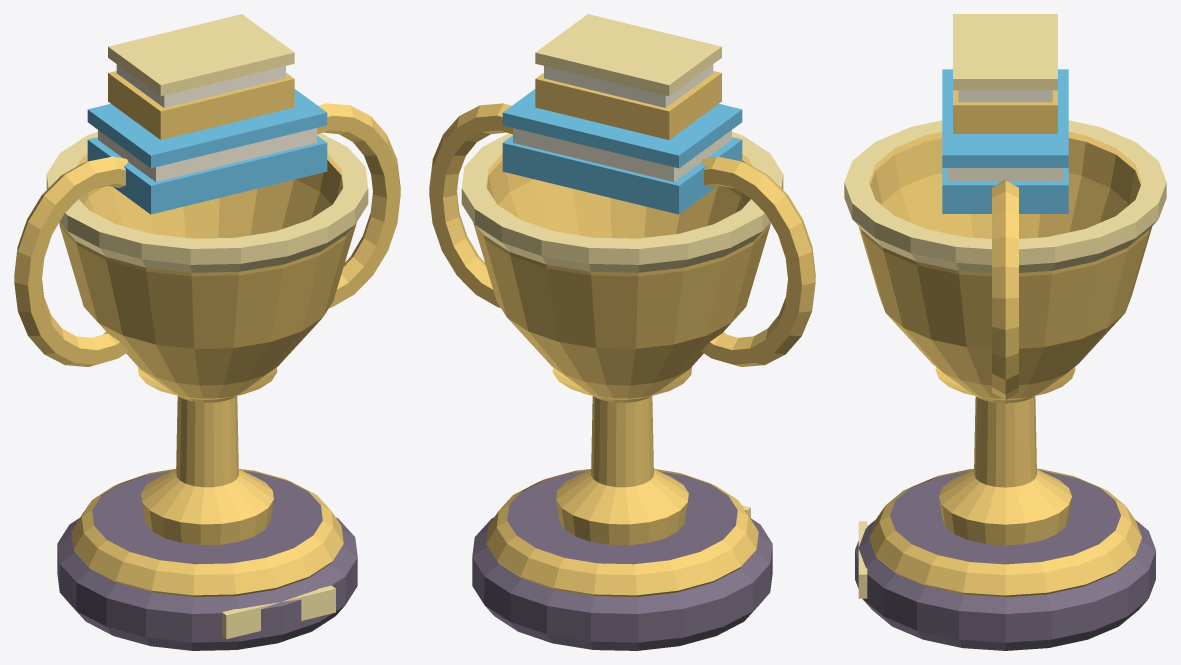
The model's file is learning.glb.
3 renders of one model, left to right at view 1: azimuth 30°, elevation 25°; view 2: azimuth 150°, elevation 25°; view 3: azimuth 270°, elevation 25°, orthographic.
Bounding box in the file's own units: 1.27 × 1.71 × 0.92.
